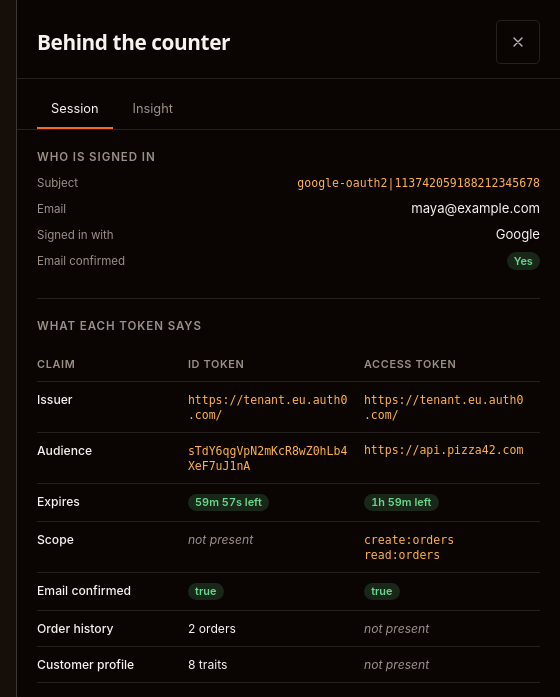
Test case: Behind the counter — insight › marks the traits that have moved since the token was signed
The image size is (560, 697).
Step 1. Click the tab "Insight" → (153, 109), box [118,89,187,129]
(page scrolled)
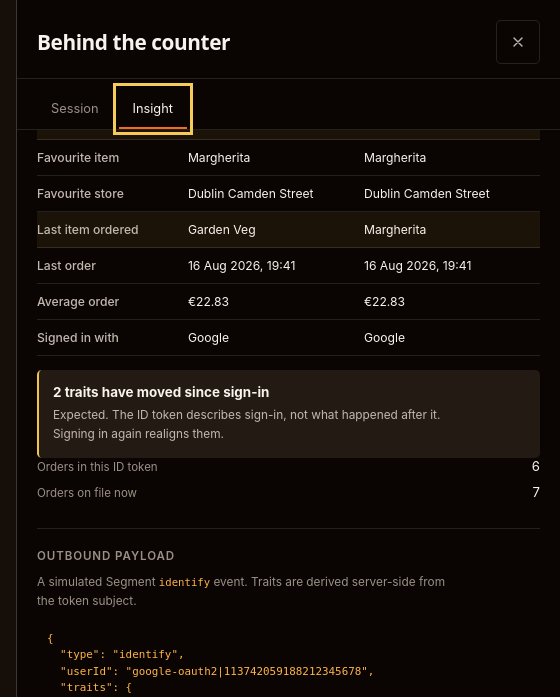
Expected: the text "2 traits have moved since sign-in" is shown, [53,384,270,400]
Expected: the text "describes sign-in, not what happened after" is shown, [53,408,440,441]
